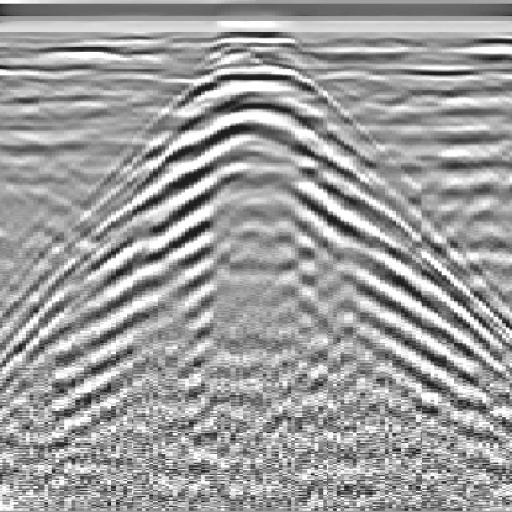metalic: (47, 35, 492, 414)
